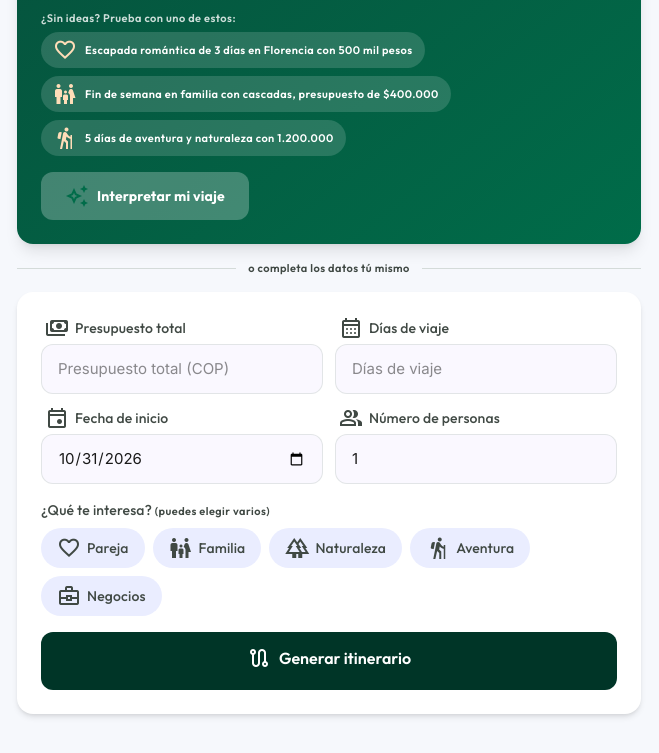
Test: Itinerario: formulario › muestra el error del servidor y se queda en el formulario
(page scrolled)
Type "10" into the number field with placeholder "Presupuesto total (COP)" at (182, 369), box [41,344,323,394]
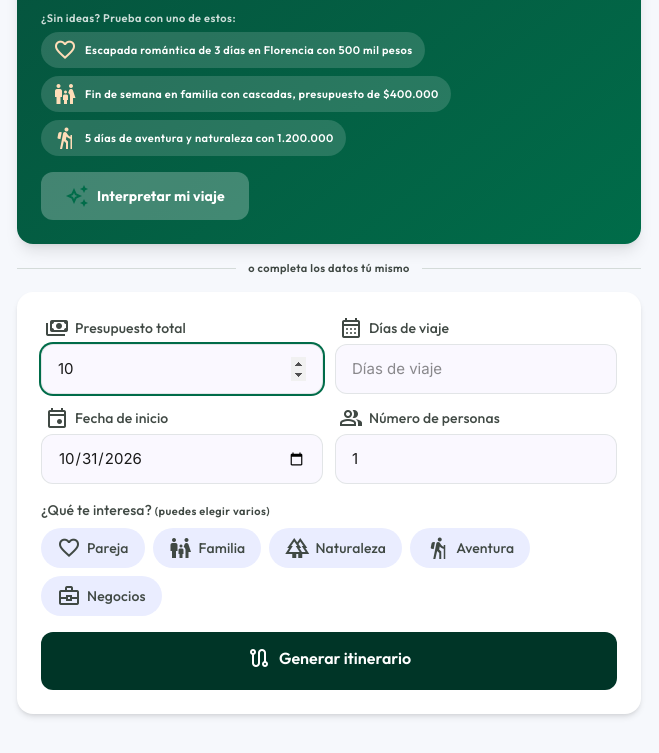
Type "2" into the number field with placeholder "Días de viaje" at (476, 369), box [335,344,617,394]
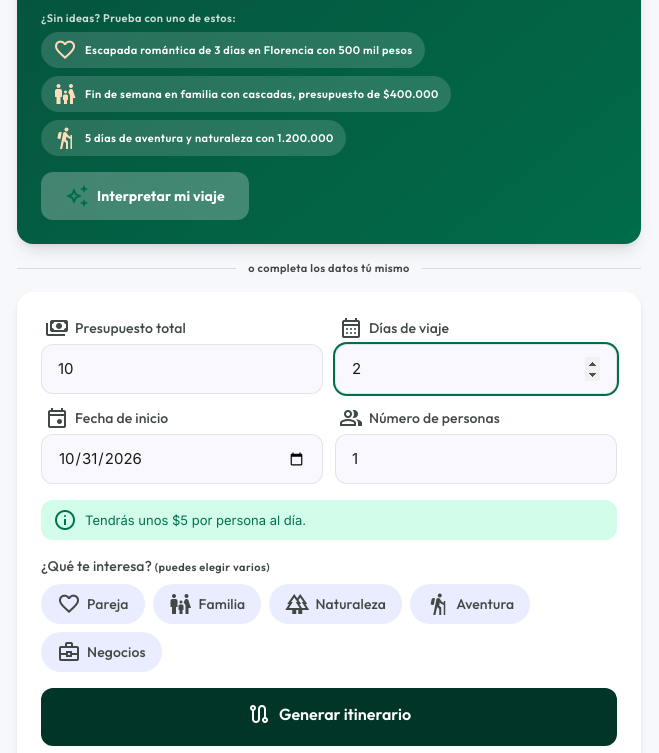
Click the button "Generar itinerario" at (329, 717), box [41,688,617,746]
(page scrolled)
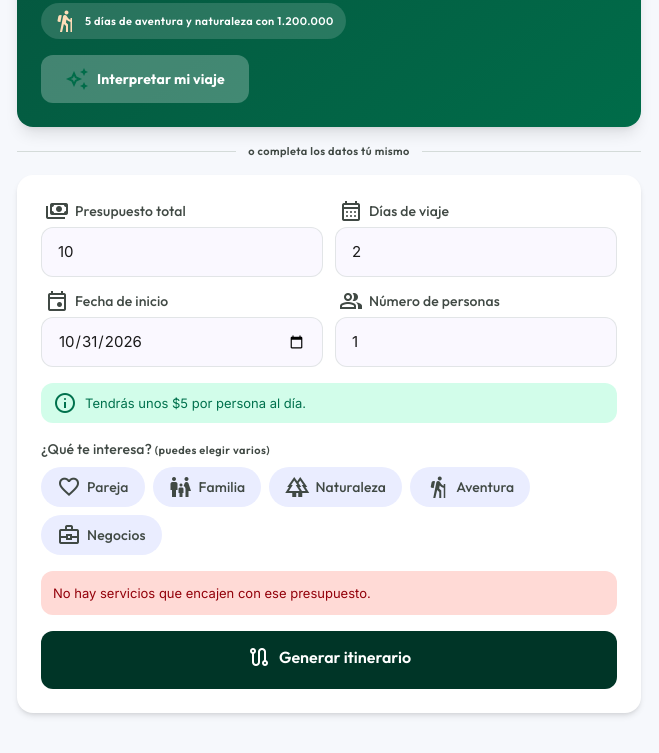
Expected: the button "Generar itinerario" is enabled, [41,631,617,689]
Result: the text "No hay servicios que encajen con ese presupuesto." is shown at [41,571,617,615]
